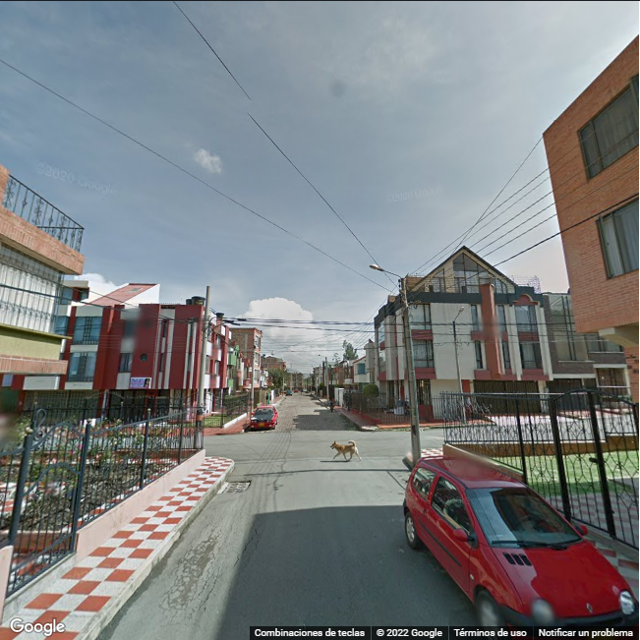D00: (229, 527, 264, 583)
D20: (149, 532, 218, 619)
